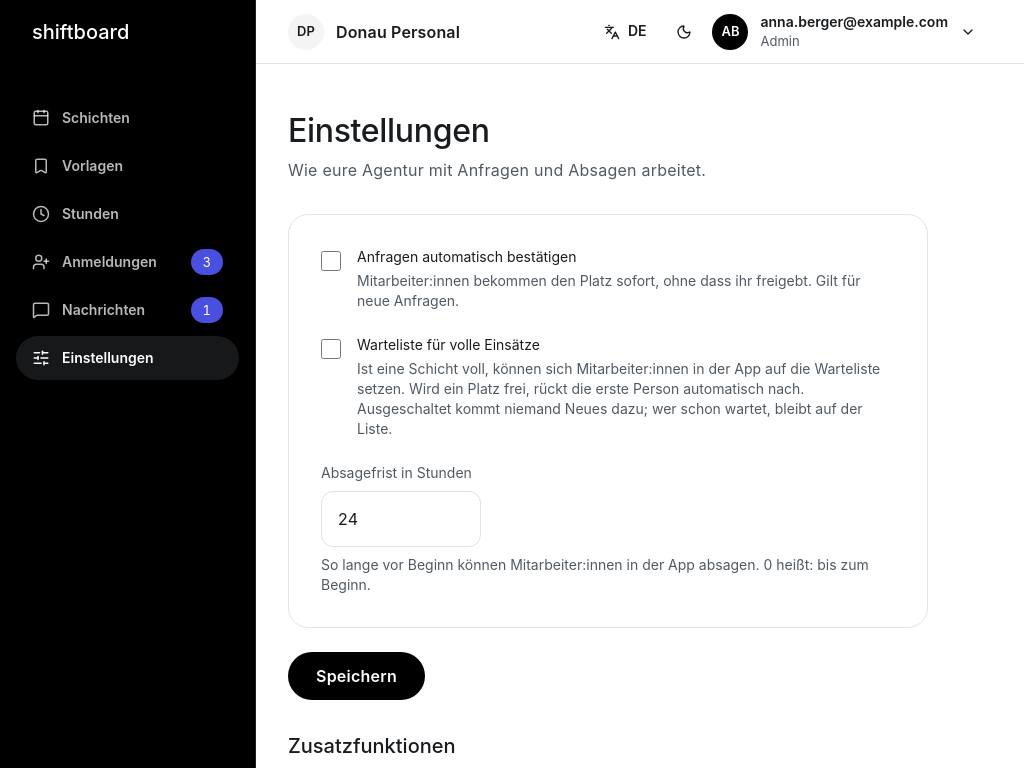
Test case: agency settings › checks the deadline before saving
Replace the text in the number field labelled "Absagefrist in Stunden" with "400" at [401, 519], box [321, 491, 481, 547]
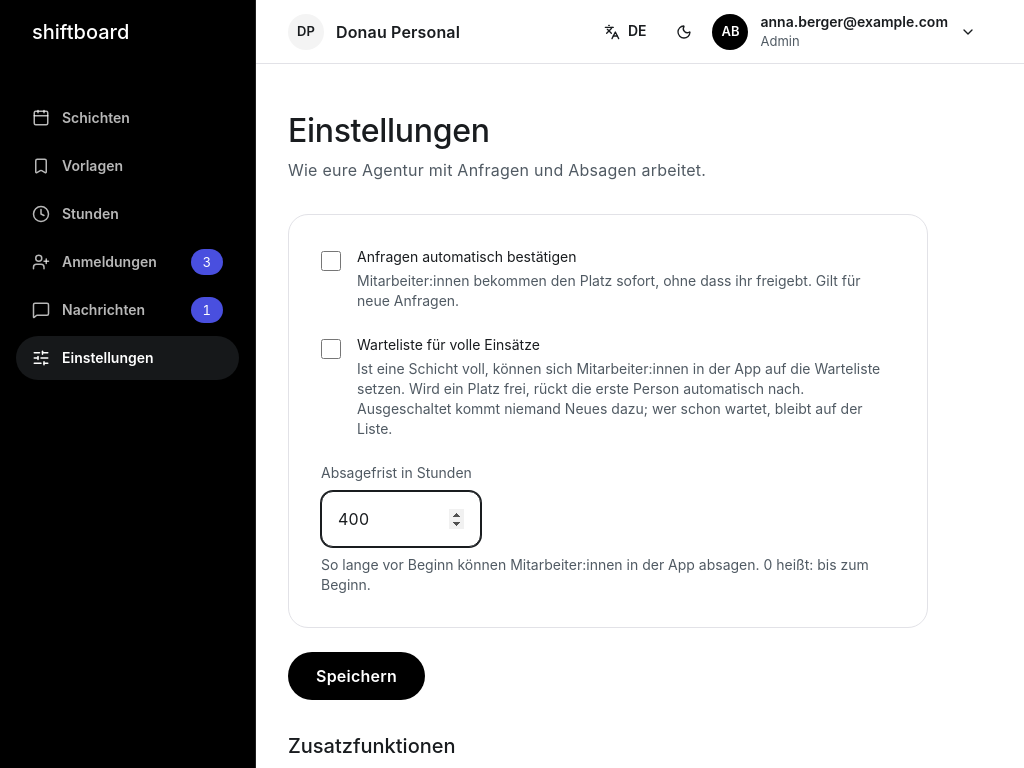
Click the button "Speichern" at [357, 676], box [288, 652, 425, 700]
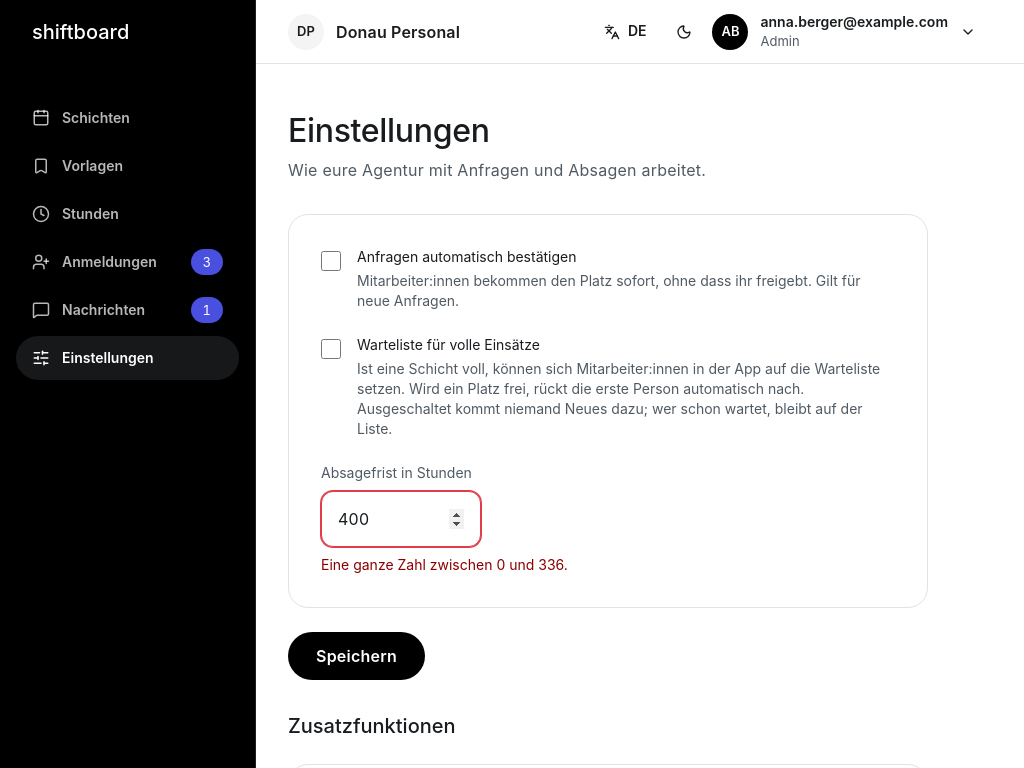
Expected: the text "Eine ganze Zahl zwischen 0 und 336." is shown, [321, 556, 568, 573]
